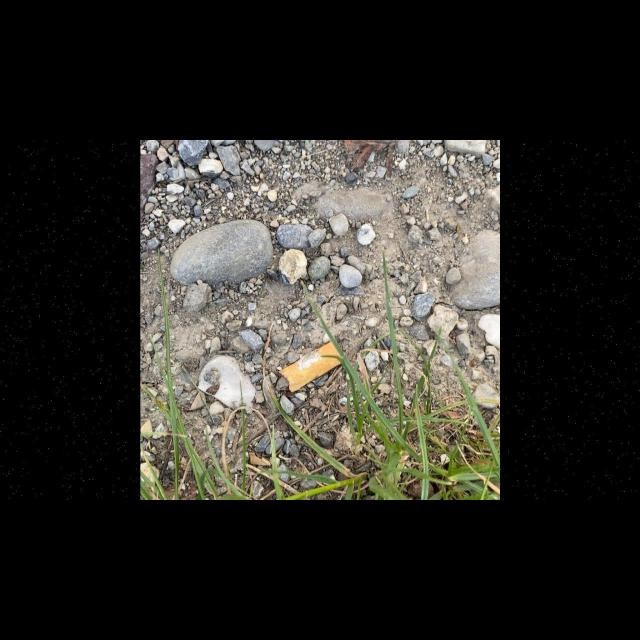cigarette: (278, 341, 342, 394)
